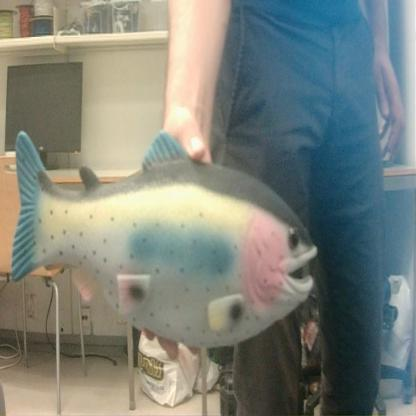rubberfish: (7, 127, 322, 353)
